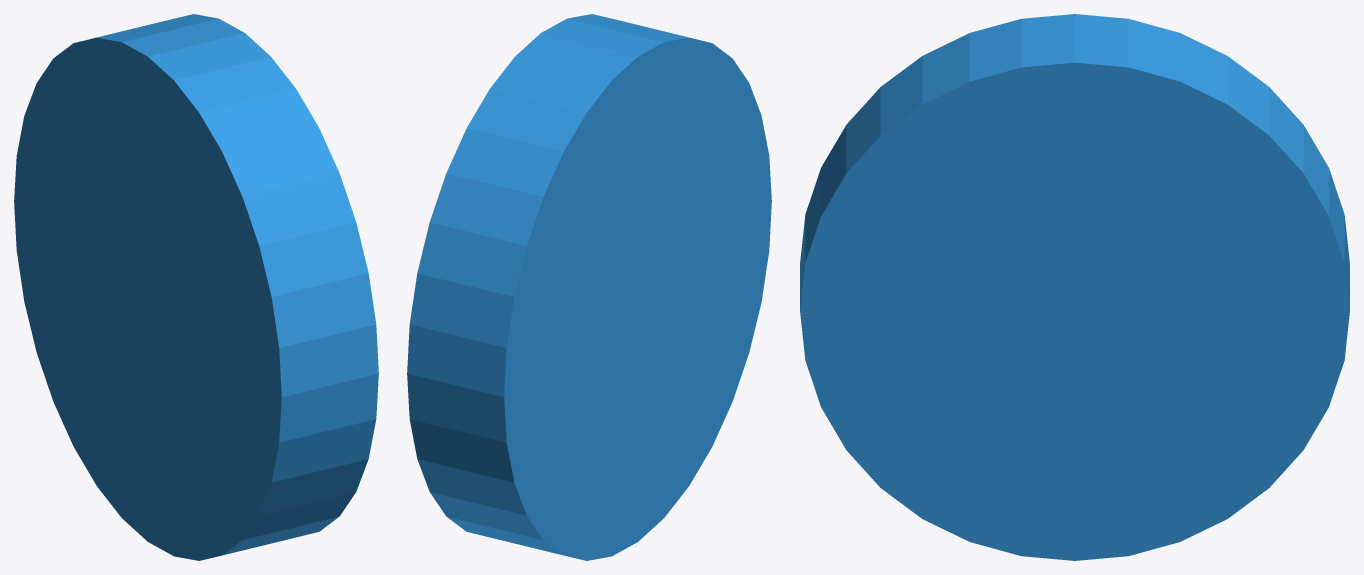
Rendered from library.gltf.
3 renders of one model, left to right at view 1: azimuth 30°, elevation 25°; view 2: azimuth 150°, elevation 25°; view 3: azimuth 270°, elevation 25°, orthographic. The views are drawn at different scales.
Parts seen in each view (by area): view 1: Tire; view 2: Tire; view 3: Tire.
Part boxes in pixels (left/top/right/bottom): Tire: left=14, top=14, right=378, bottom=560; Tire: left=407, top=14, right=771, bottom=560; Tire: left=800, top=14, right=1349, bottom=560.
Bounding box in the file's own units: 0.1115 × 0.5325 × 0.5325.
